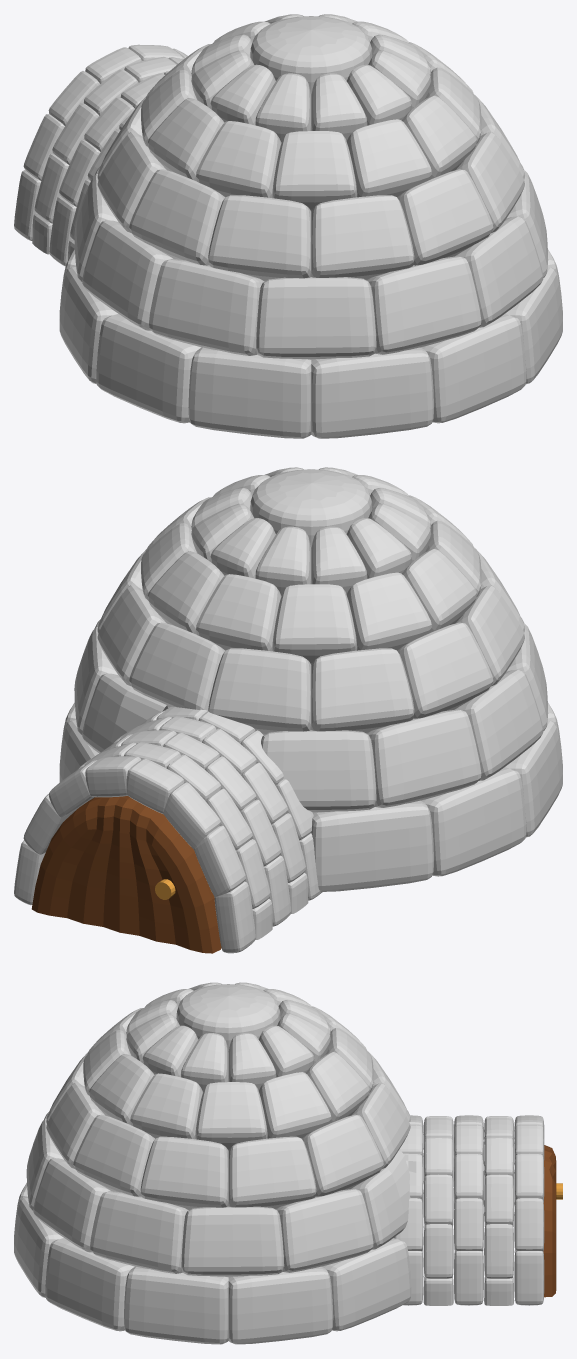
The model's file is iglu_final.fbx.
3 renders of one model, top to bottom at view 1: azimuth 30°, elevation 25°; view 2: azimuth 150°, elevation 25°; view 3: azimuth 270°, elevation 25°, orthographic. The views are drawn at different scales.
Parts seen in each view (by area): view 1: Cylinder.003; view 2: Cylinder.003, puerta; view 3: Cylinder.003, puerta.
Boxes of the visible parts, <box> form: Cylinder.003: <box>14,14,562,438</box>; Cylinder.003: <box>14,467,562,953</box>; puerta: <box>31,796,221,953</box>; Cylinder.003: <box>14,982,544,1344</box>; puerta: <box>543,1145,556,1297</box>.
Bounding box in the file's own units: 1822 × 1247 × 2331.
